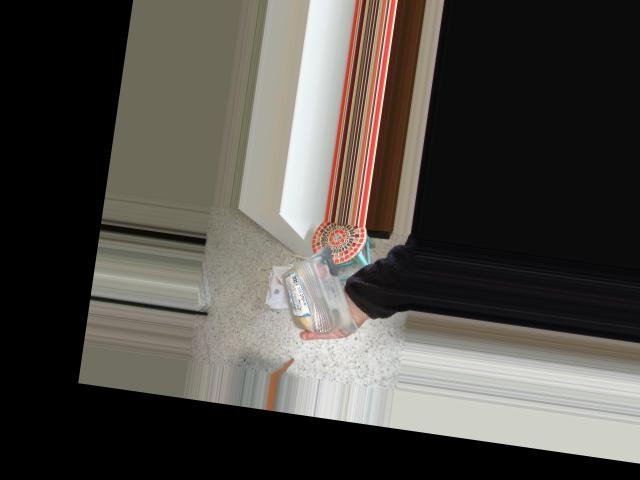cheese: (255, 267, 351, 319)
